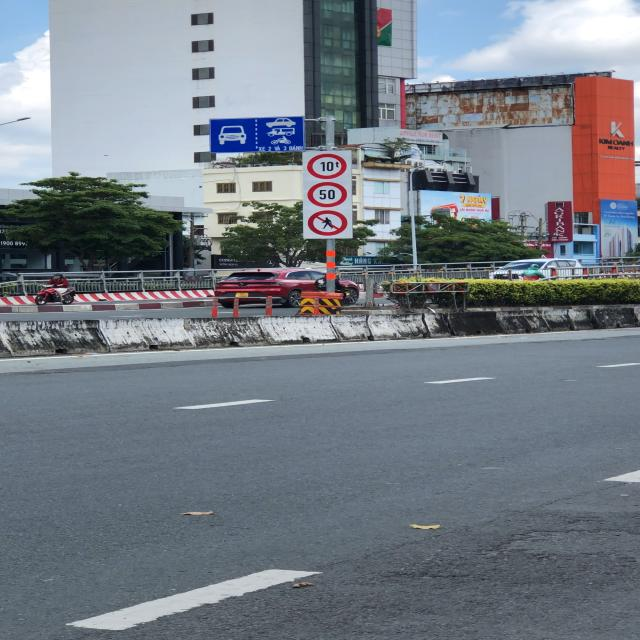Bien bao cam nguoi di bo: (306, 209, 351, 236)
Bien bao toc do toi da cho phep: (306, 180, 348, 208)
